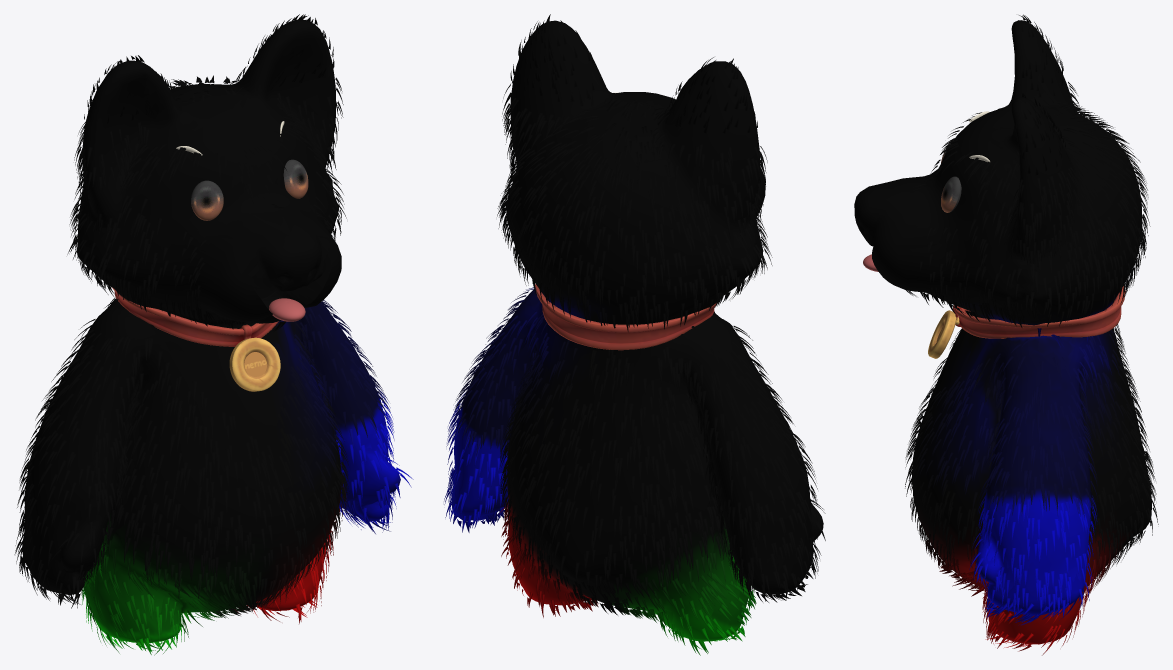
File: nemo_shell_v15.glb
The picture shows the model from 3 angles, left to right: view 1: azimuth 30°, elevation 25°; view 2: azimuth 150°, elevation 25°; view 3: azimuth 270°, elevation 25°; orthographic projection. The views are drawn at different scales.
Parts seen in each view (by area): view 1: BoundedShellGroom, LayeredCurvedGroom, Body, Collar, Nemo_Normal, Small tongue inside smile; view 2: BoundedShellGroom, LayeredCurvedGroom, Body, Collar; view 3: BoundedShellGroom, LayeredCurvedGroom, Body, Collar, Nemo_Normal.
Boxes of the visible parts, box(x1,y1,x2,y2) form: BoundedShellGroom: box(22, 19, 400, 642); LayeredCurvedGroom: box(14, 14, 413, 655); Body: box(24, 47, 387, 625); Collar: box(112, 287, 280, 391); Nemo_Normal: box(191, 159, 308, 220); Small tongue inside smile: box(269, 298, 305, 321); BoundedShellGroom: box(451, 20, 823, 641); LayeredCurvedGroom: box(444, 14, 825, 655); Body: box(453, 74, 817, 623); Collar: box(535, 284, 716, 350); BoundedShellGroom: box(854, 20, 1151, 644); LayeredCurvedGroom: box(905, 14, 1158, 655); Body: box(857, 75, 1135, 606); Collar: box(928, 286, 1125, 358); Nemo_Normal: box(941, 140, 961, 212).
Size of the model in its own units: 1.75 by 2.77 by 1.36.
8 materials, 5 textured.
